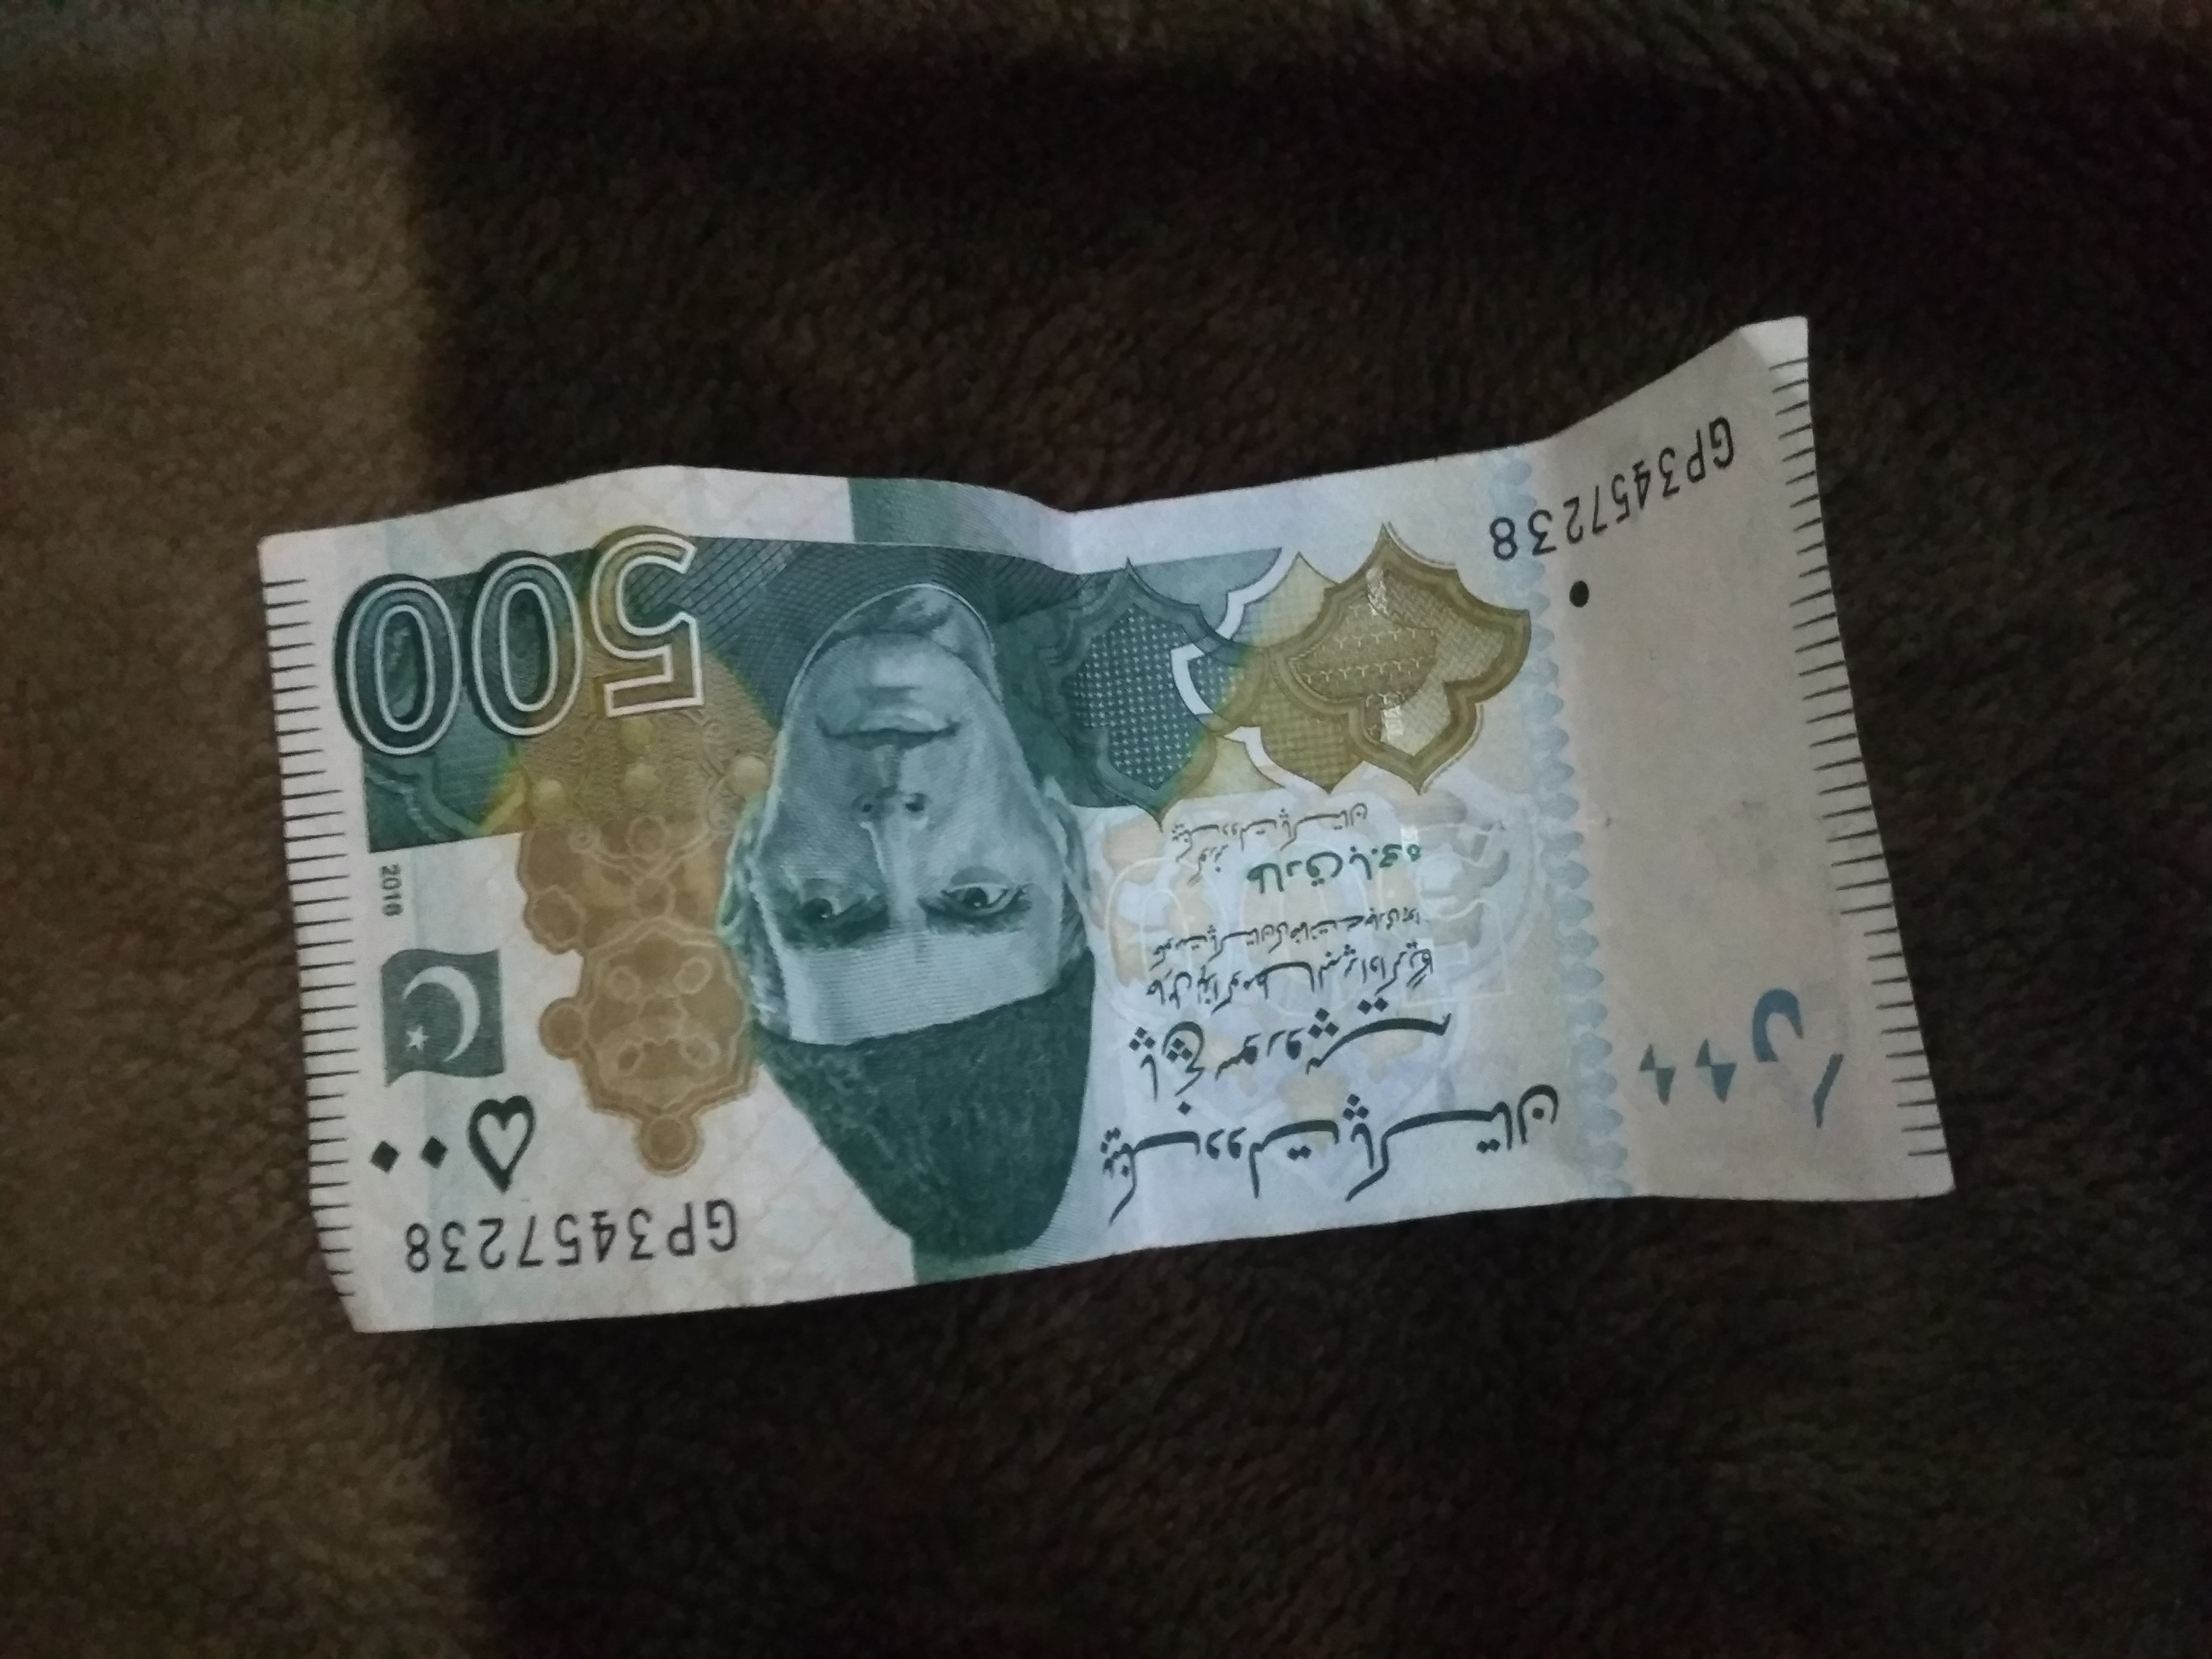500 rupee: (237, 286, 1989, 1398)
